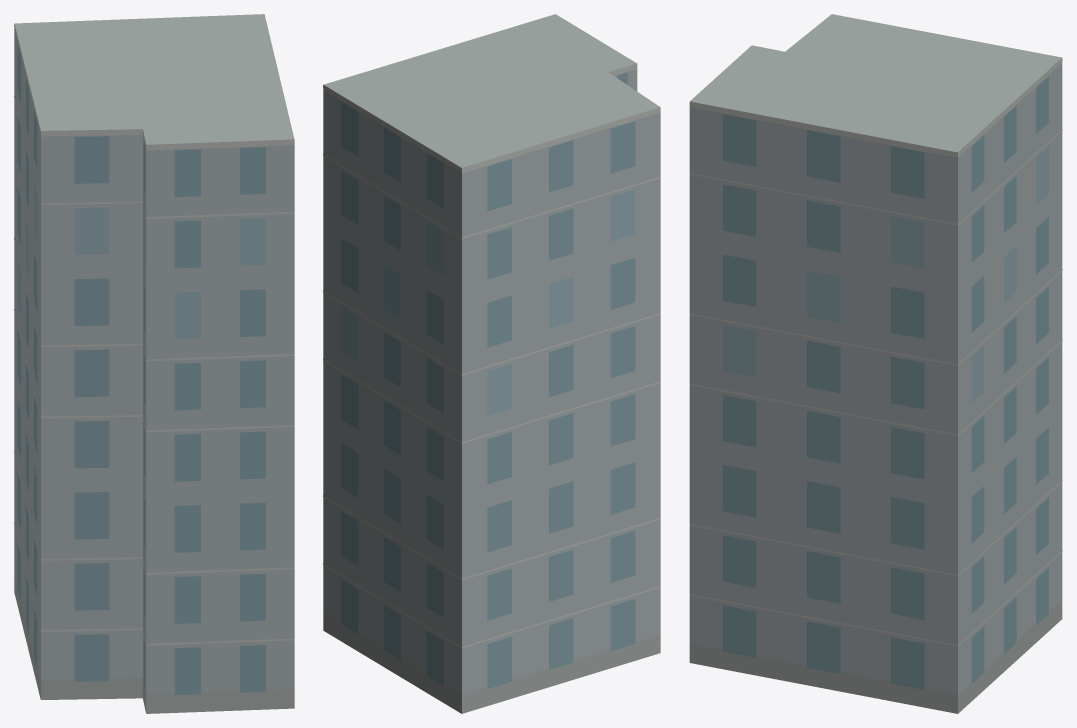
Rendered from survey-upis-33012809.glb.
The picture shows the model from 3 angles, left to right: view 1: azimuth 30°, elevation 25°; view 2: azimuth 150°, elevation 25°; view 3: azimuth 270°, elevation 25°; orthographic projection. The views are drawn at different scales.
Visible parts, largest first — view 1: survey-upis-33012809.tmp; view 2: survey-upis-33012809.tmp; view 3: survey-upis-33012809.tmp.
Part boxes in pixels (left/top/right/bottom): survey-upis-33012809.tmp: left=14, top=14, right=294, bottom=713; survey-upis-33012809.tmp: left=323, top=14, right=660, bottom=713; survey-upis-33012809.tmp: left=689, top=14, right=1062, bottom=713.
Size of the model in its own units: 12.98 by 24.5 by 14.76.
